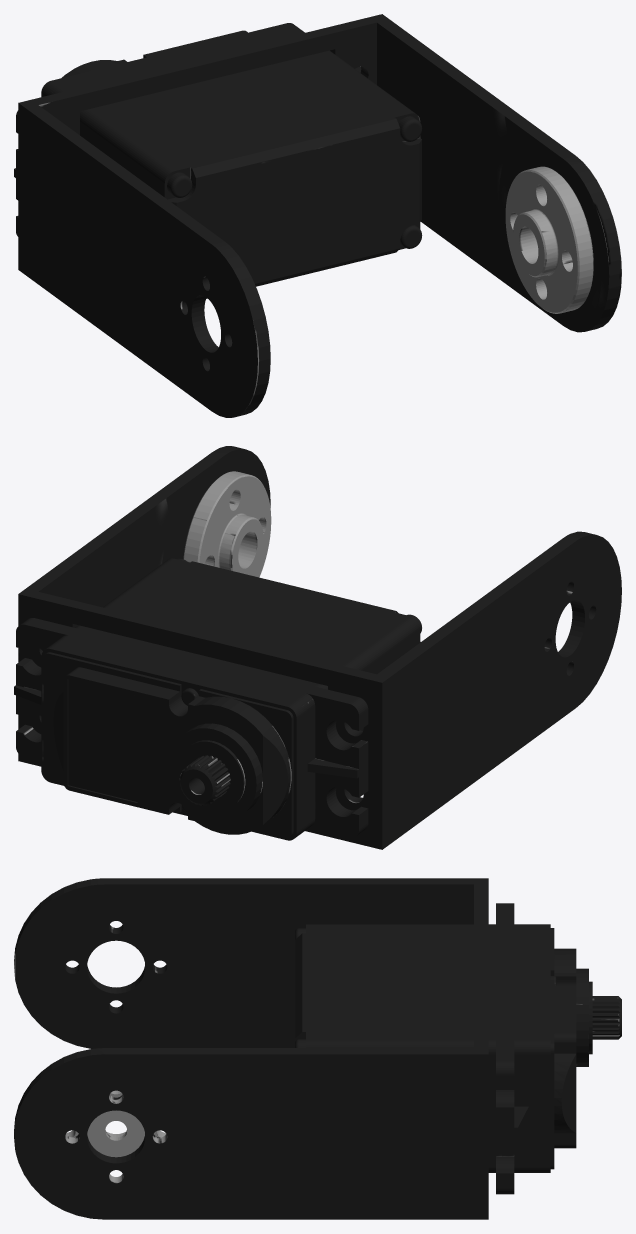
The picture shows the model from 3 angles, top to bottom: view 1: azimuth 30°, elevation 25°; view 2: azimuth 150°, elevation 25°; view 3: azimuth 270°, elevation 25°; orthographic projection.
Visible parts, largest first — view 1: link4; view 2: link4; view 3: link4.
Boxes of the visible parts, x1,y1,x2,y2 form: link4: (14, 14, 621, 417); link4: (14, 446, 621, 849); link4: (14, 878, 621, 1219).
Bounding box in the file's own units: 0.057 × 0.0832 × 0.025.
1 material, 1 textured.
